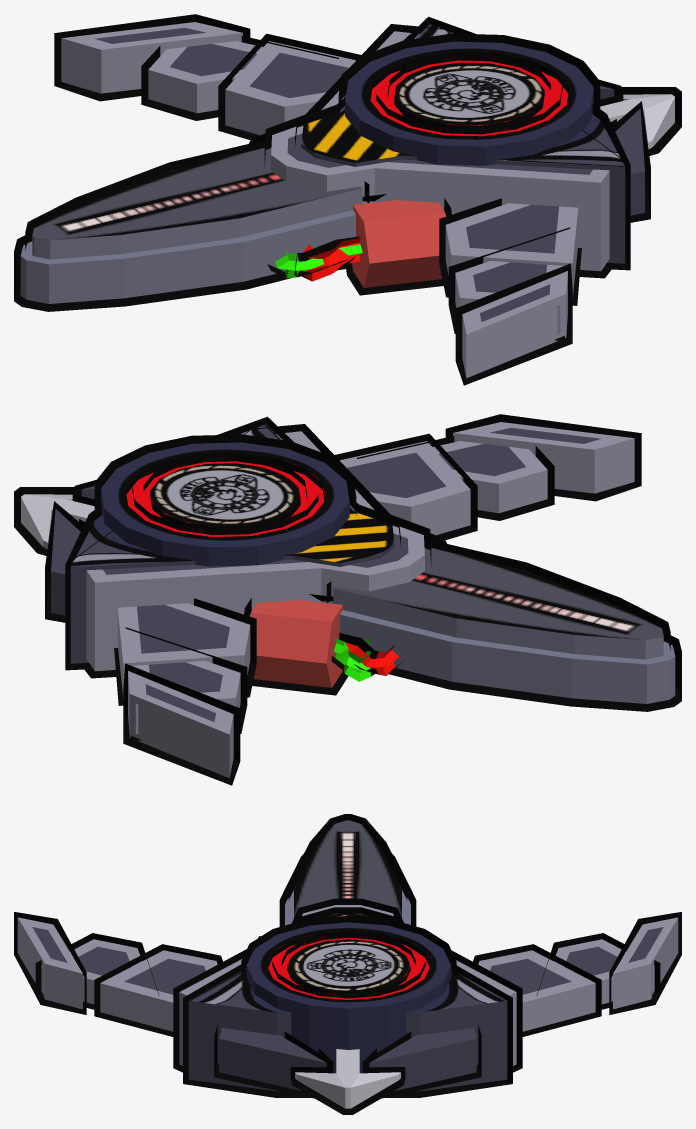
The model's file is grappling hook.fbx.
3 renders of one model, top to bottom at view 1: azimuth 30°, elevation 25°; view 2: azimuth 150°, elevation 25°; view 3: azimuth 270°, elevation 25°, orthographic. The views are drawn at different scales.
Visible parts, largest first — view 1: Cube; view 2: Cube; view 3: Cube.
Part boxes in pixels (x1,y1,x2,y2): Cube: [14, 14, 681, 385]; Cube: [14, 414, 681, 785]; Cube: [14, 814, 681, 1114].
Size of the model in its own units: 93.07 by 86.73 by 16.2.
